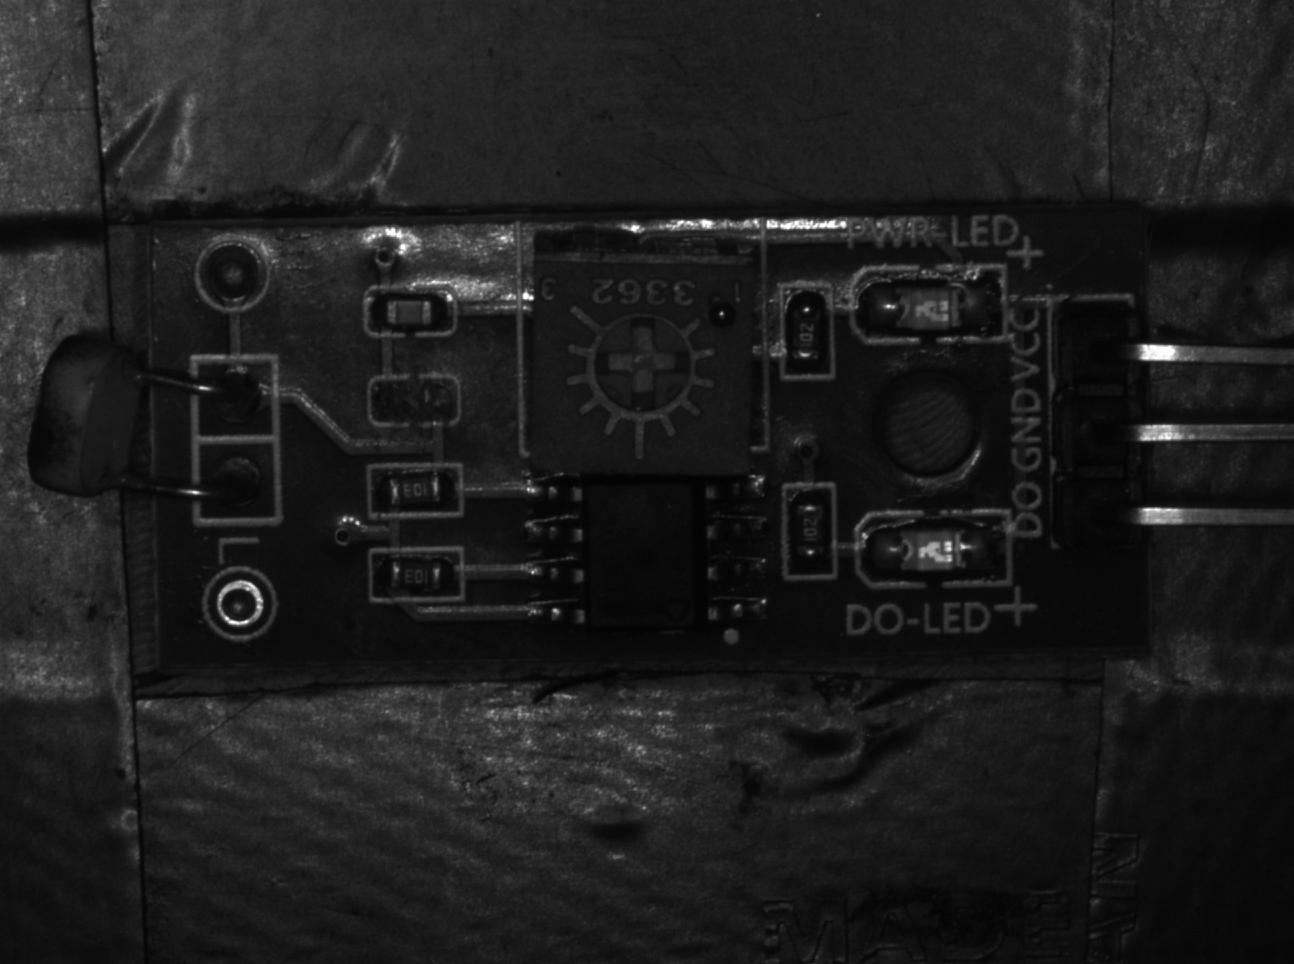miss: (368, 373, 465, 428)
ok: (368, 461, 466, 518), (780, 284, 836, 381), (370, 550, 464, 604), (361, 286, 460, 336), (790, 484, 839, 580)
